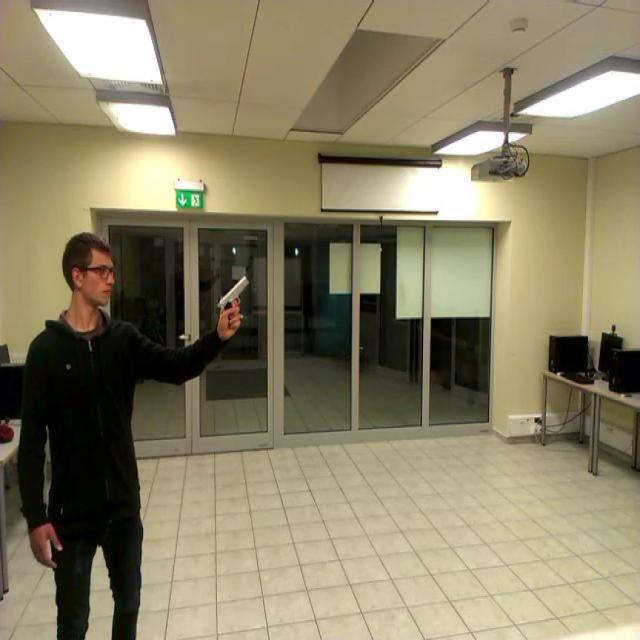pistol: (218, 275, 250, 328)
